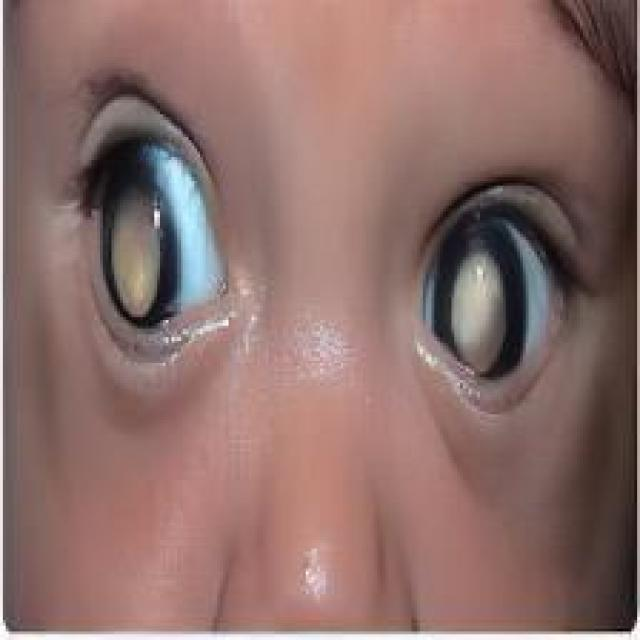reflexo-alterado: (65, 96, 245, 364), (398, 188, 578, 409)
